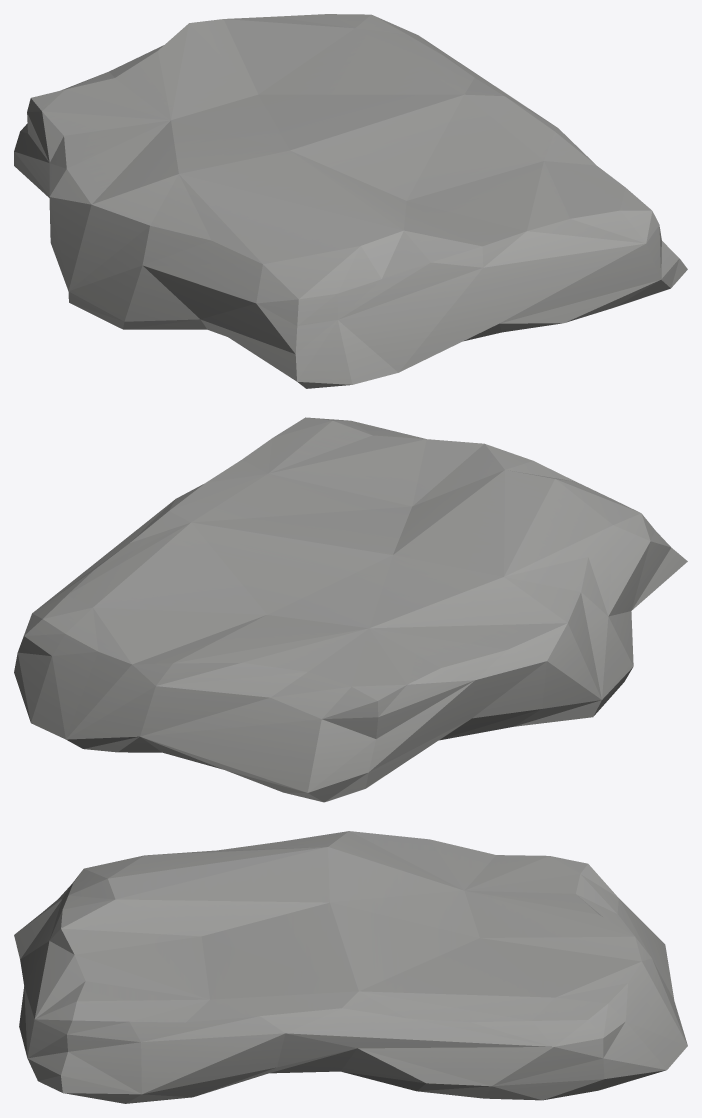
Rendered from Cavern_Step_Med-01.fbx.
3 renders of one model, top to bottom at view 1: azimuth 30°, elevation 25°; view 2: azimuth 150°, elevation 25°; view 3: azimuth 270°, elevation 25°, orthographic. The views are drawn at different scales.
Parts seen in each view (by area): view 1: Cavern_Step_Med-01; view 2: Cavern_Step_Med-01; view 3: Cavern_Step_Med-01.
Boxes of the visible parts, left/top/right/bottom form: Cavern_Step_Med-01: left=14, top=14, right=687, bottom=388; Cavern_Step_Med-01: left=14, top=417, right=687, bottom=802; Cavern_Step_Med-01: left=14, top=831, right=687, bottom=1103.
Bounding box in the file's own units: 232 × 53.29 × 298.
Materials: 1 (1 with a texture image).
